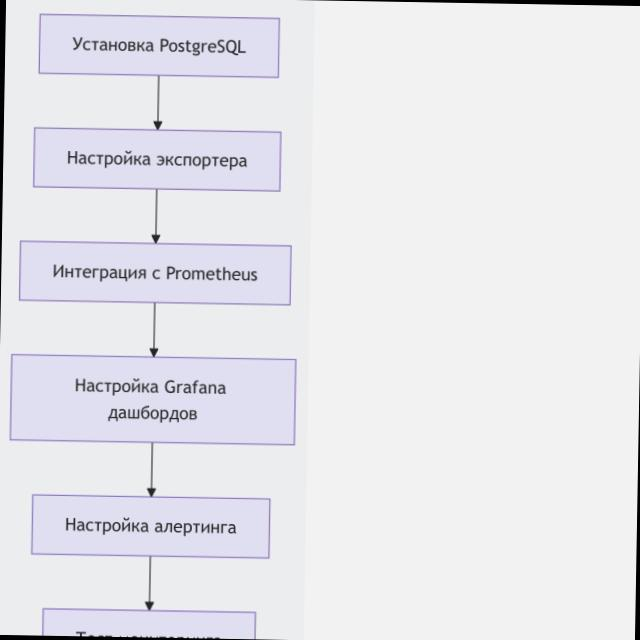arrow: (147, 443, 156, 496), (145, 557, 154, 610), (150, 303, 158, 357), (152, 190, 160, 243), (154, 77, 162, 130)
rectangle: (10, 355, 296, 445), (20, 241, 291, 305), (34, 127, 281, 191), (39, 15, 280, 78), (31, 495, 270, 558)
